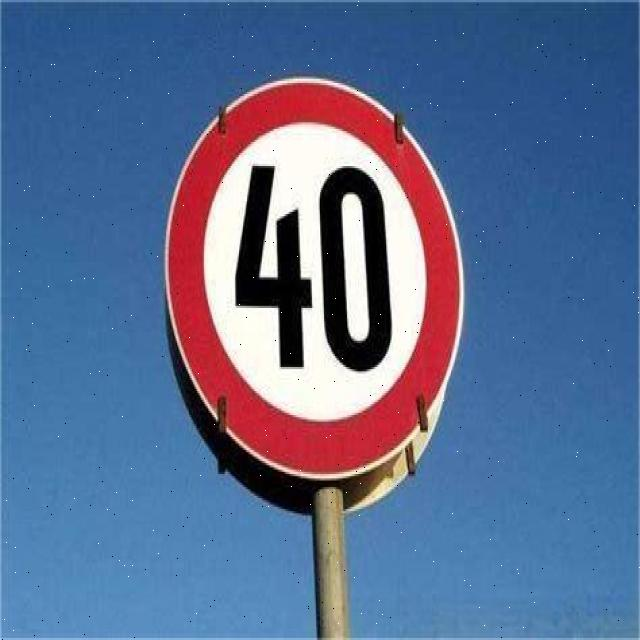speed limit 40: (161, 78, 467, 483)
